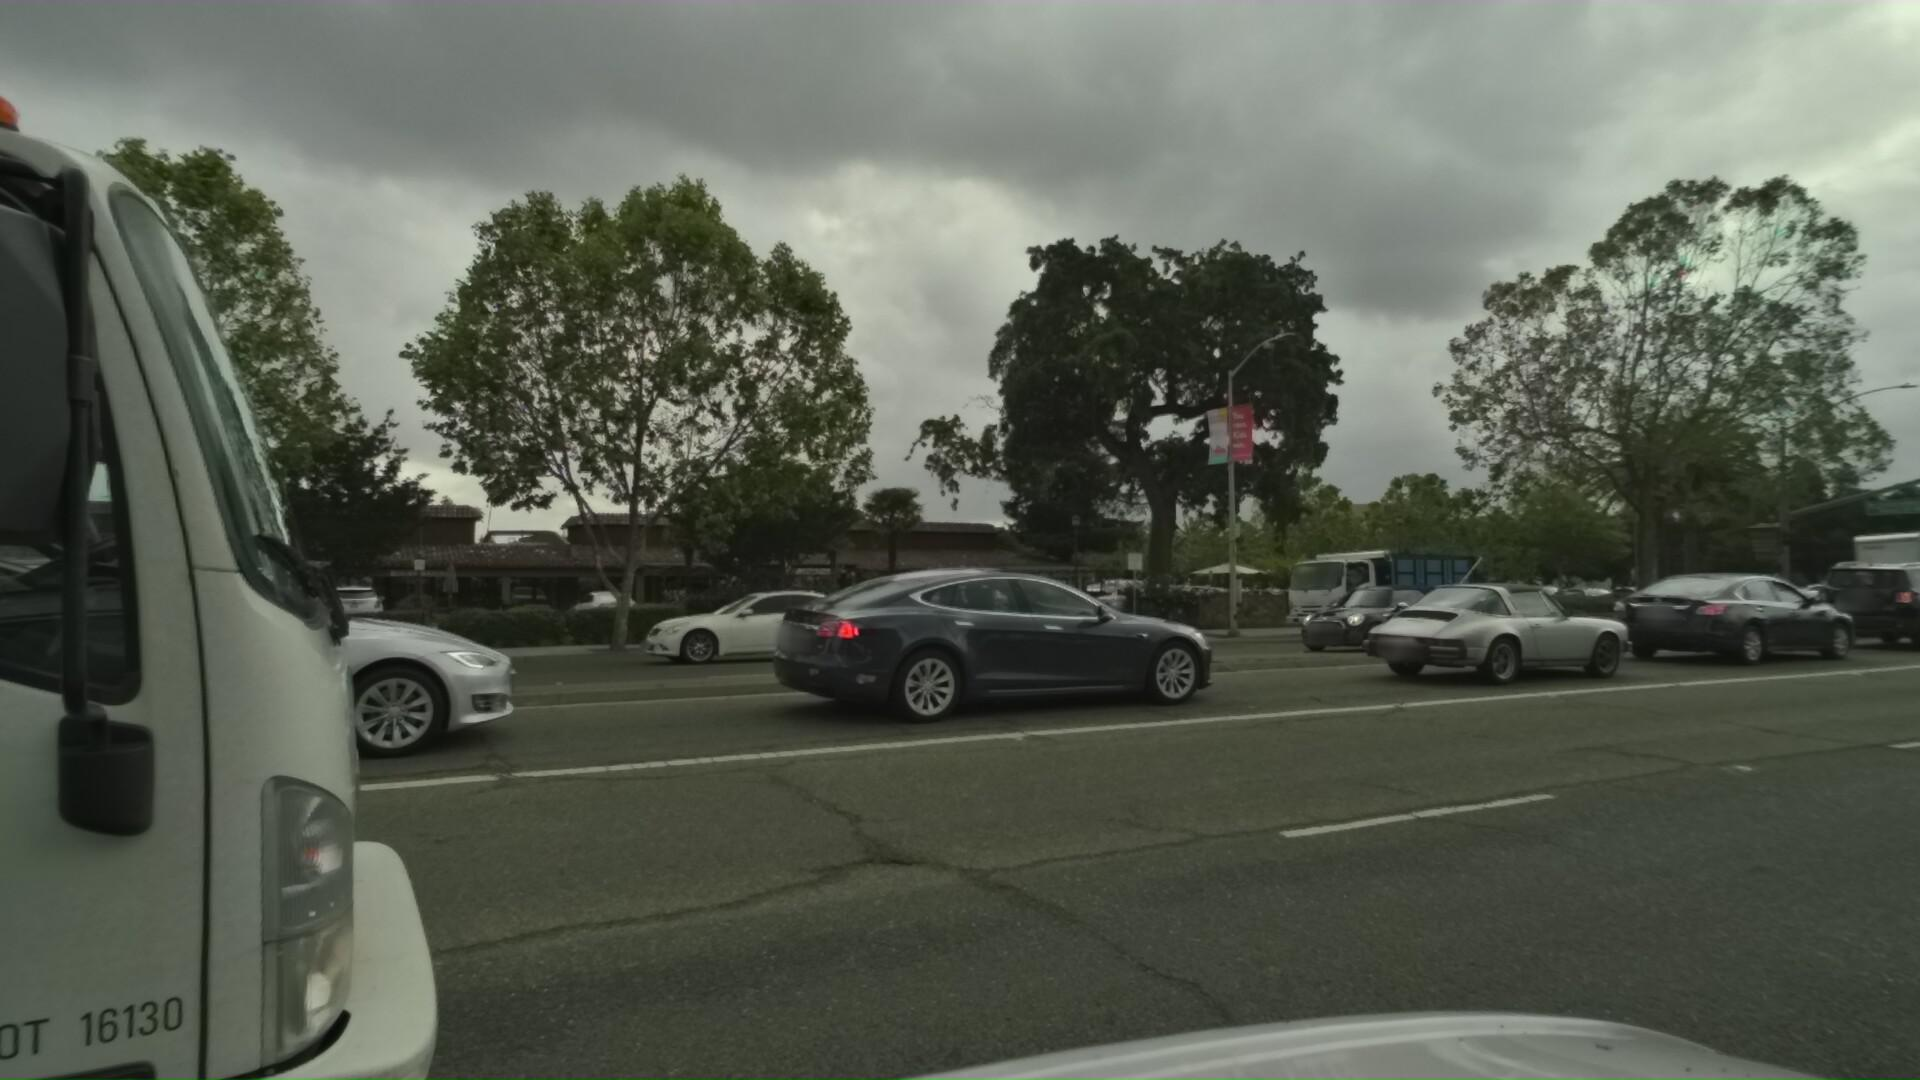car: (0, 542, 502, 832), (705, 545, 1232, 721), (1323, 567, 1638, 692), (1578, 559, 1861, 669), (592, 585, 831, 674), (1250, 580, 1437, 659), (1789, 549, 1920, 650), (0, 543, 26, 764)
truck: (1245, 543, 1469, 642), (1803, 520, 1920, 622)
